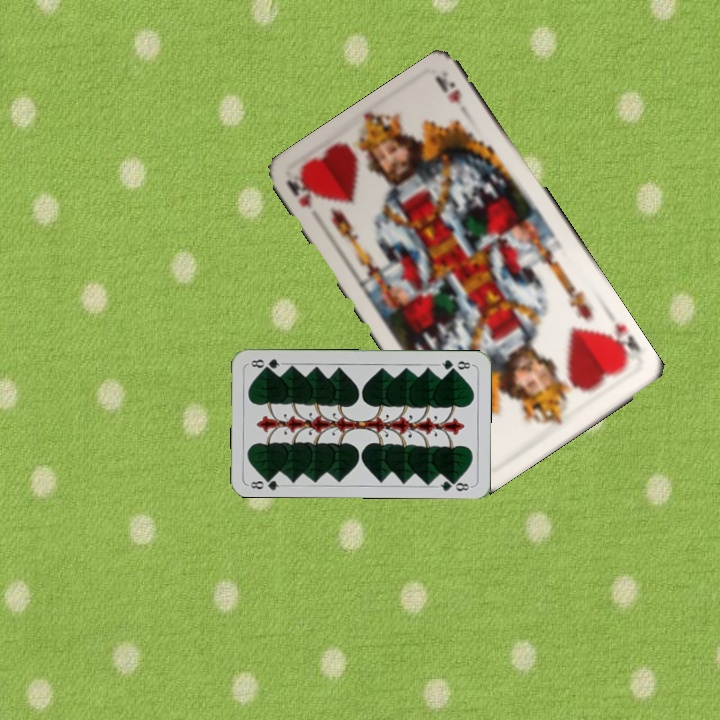G8: (247, 473, 285, 493), (435, 355, 475, 373)
HK: (599, 319, 644, 370), (282, 170, 320, 212)
